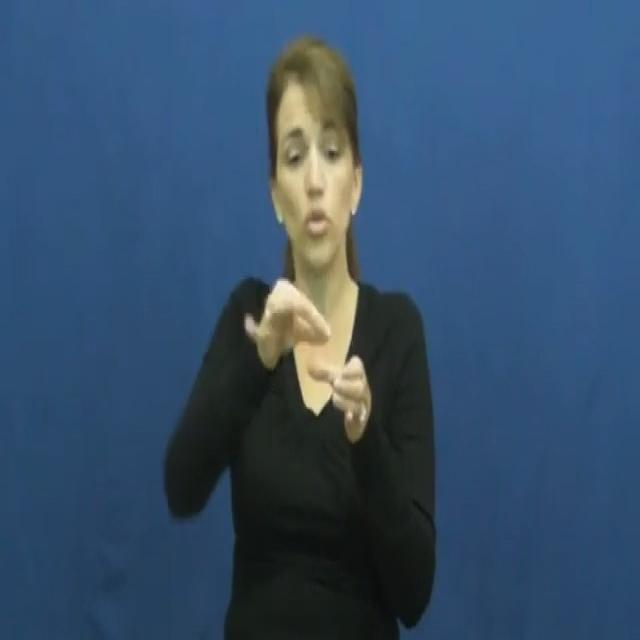straw: (232, 259, 376, 482)
